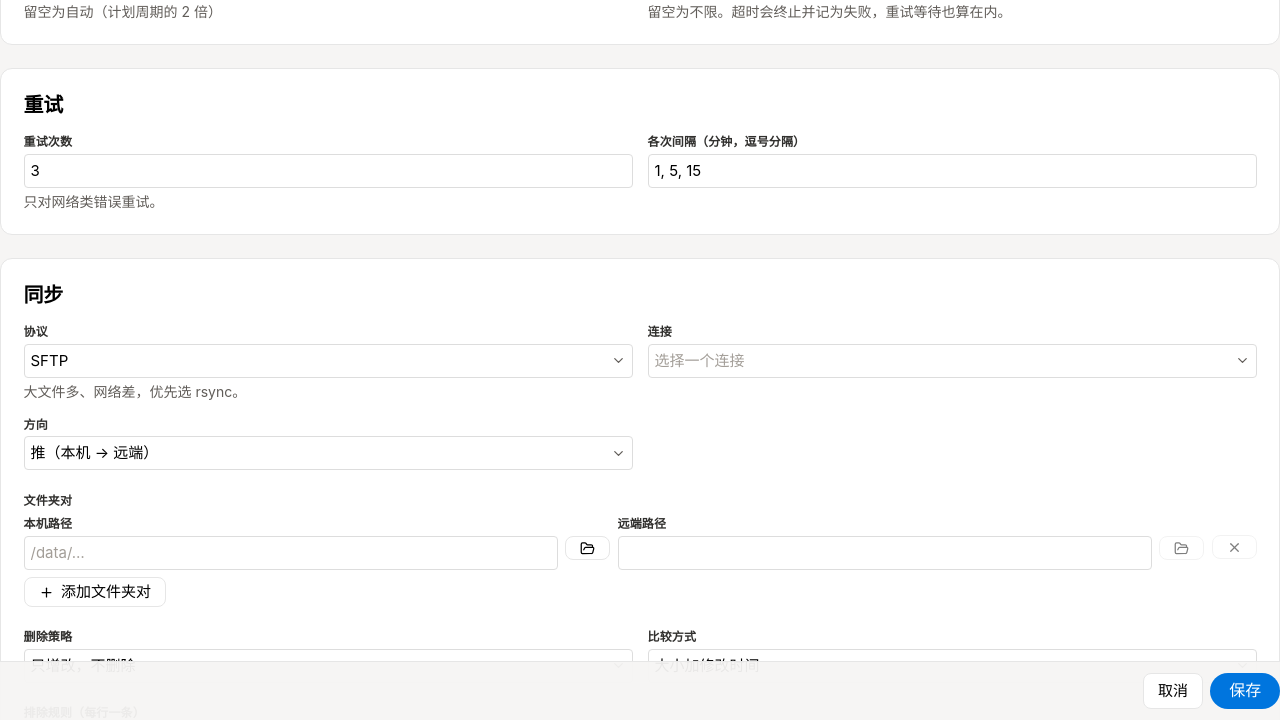
Test case: sync: connection list filtered by protocol
(page scrolled)
Click the dropdown labelled "SFTP" at (49, 360), box [24,344,632,378]
(page scrolled)
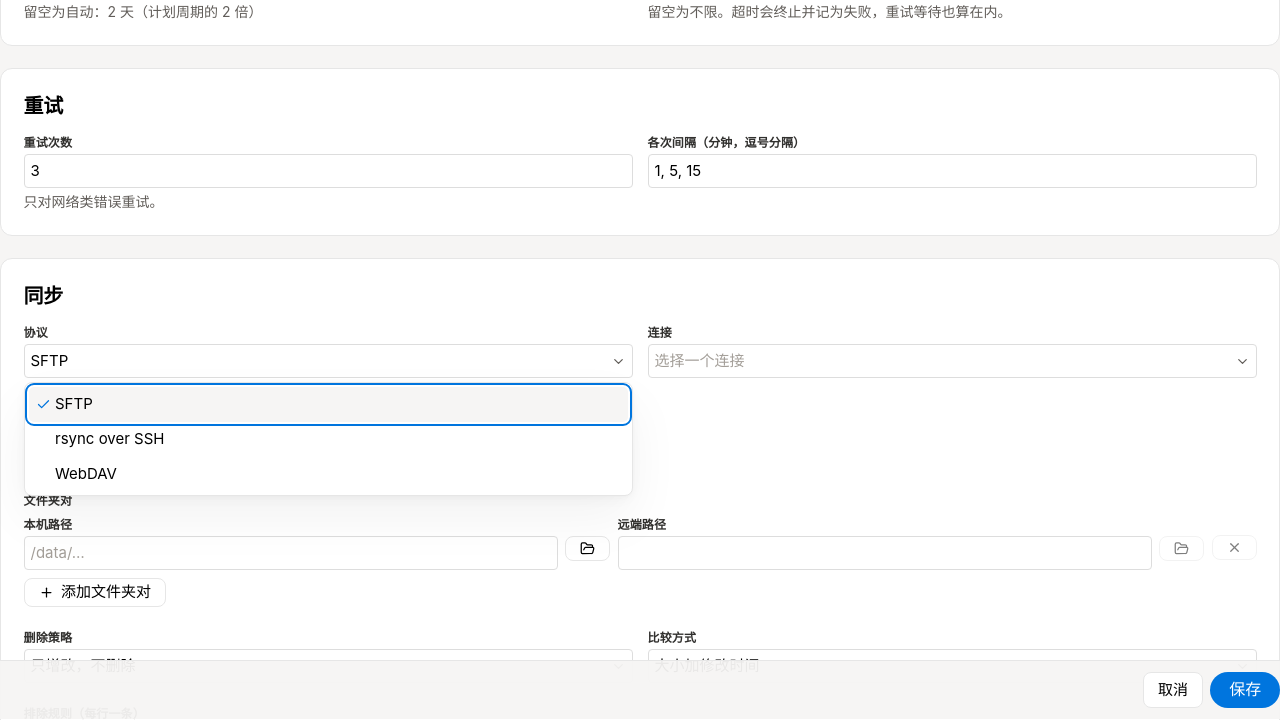
Click the option "WebDAV" at (86, 474), box [55,464,117,483]
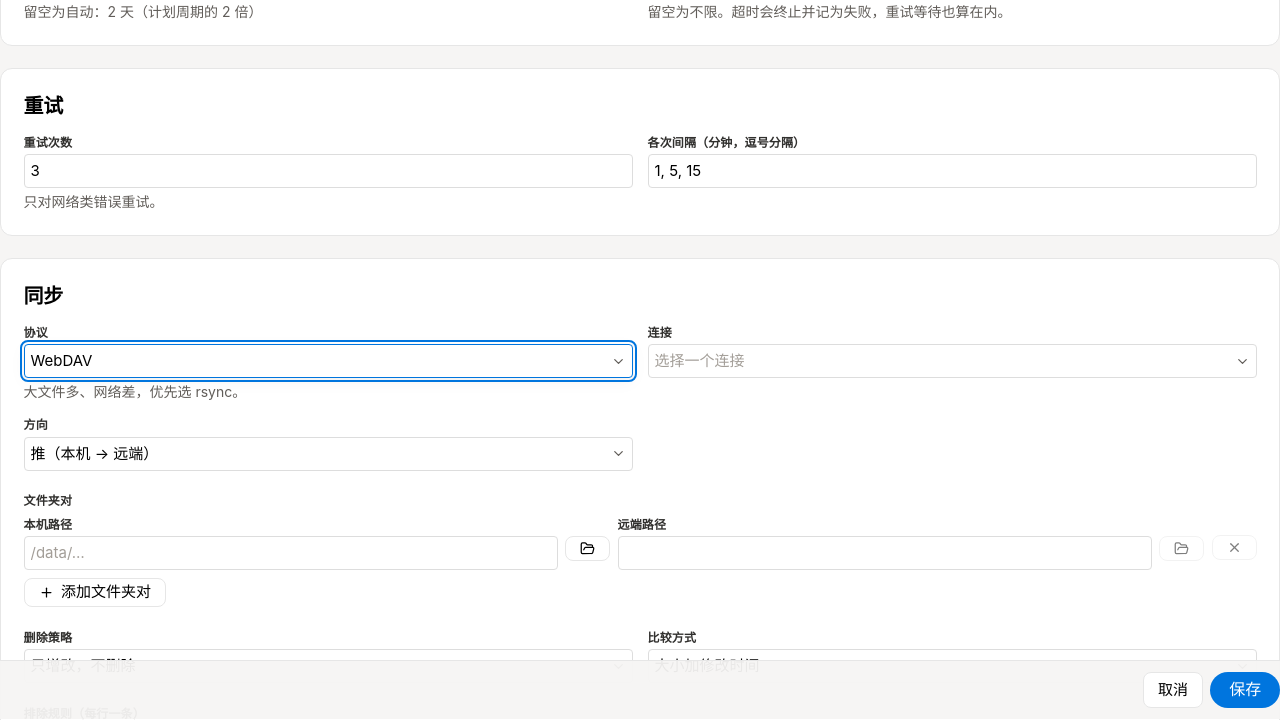
Click the dropdown labelled "连接" at (700, 361), box [648,344,1256,378]
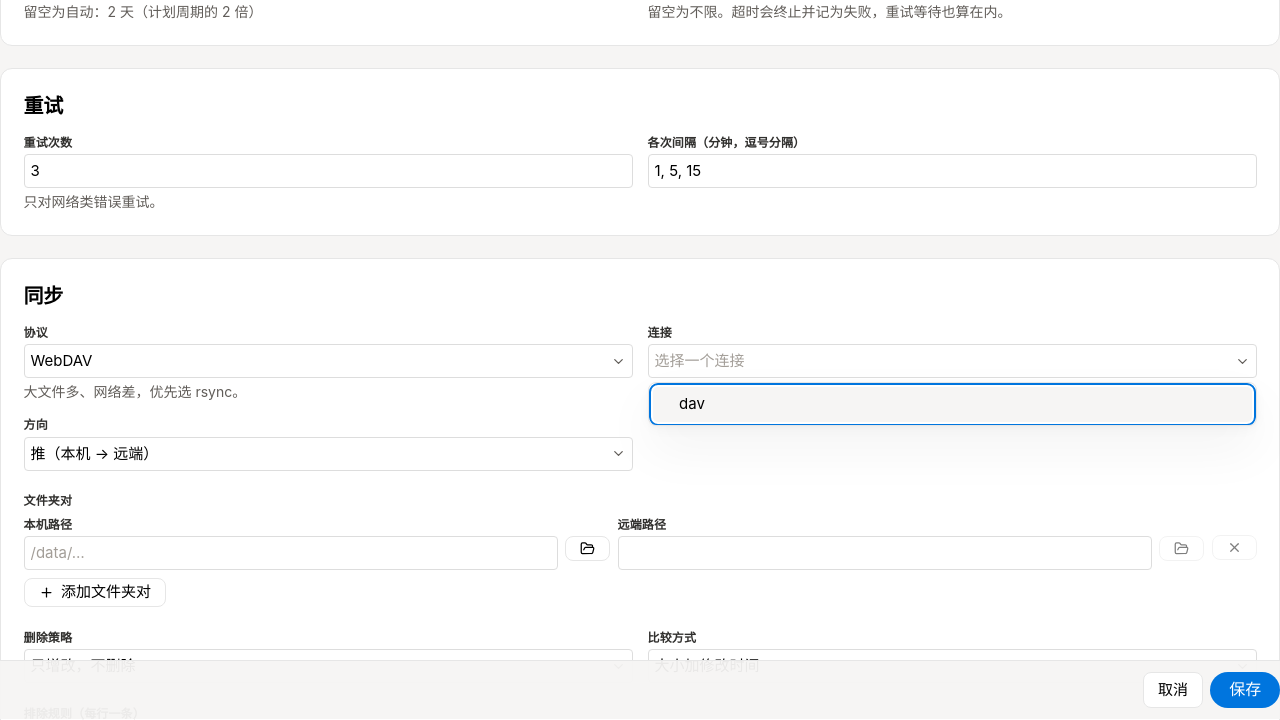
Result: the option "dav" is shown at [653,387,1252,422]
